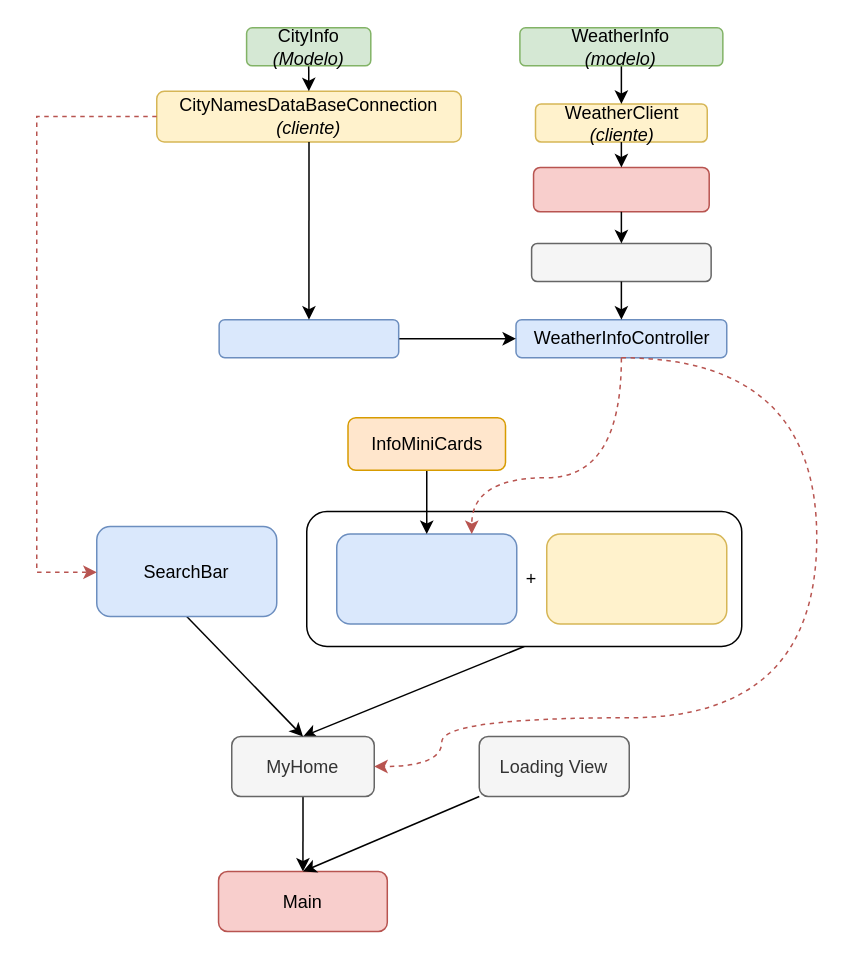
This 843x959 diagram has some shape labels left out. The centre of each missing label's shape, as x and y in pixels:
"DataRepo (repositorio)" goes at pixel 620 189.
"LikedCitiesController" goes at pixel 308 338.
"SingleChildScrollView" goes at pixel 636 578.
"WeatherCard" goes at pixel 426 578.
"WeatherReports" goes at pixel 620 262.
